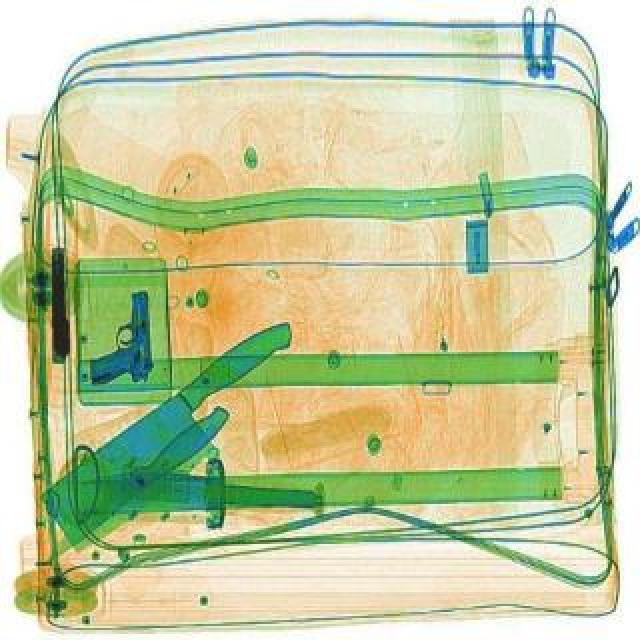gun: (80, 288, 154, 386), (46, 248, 72, 362)
knife: (28, 310, 328, 554), (36, 398, 236, 566), (88, 468, 316, 518)
